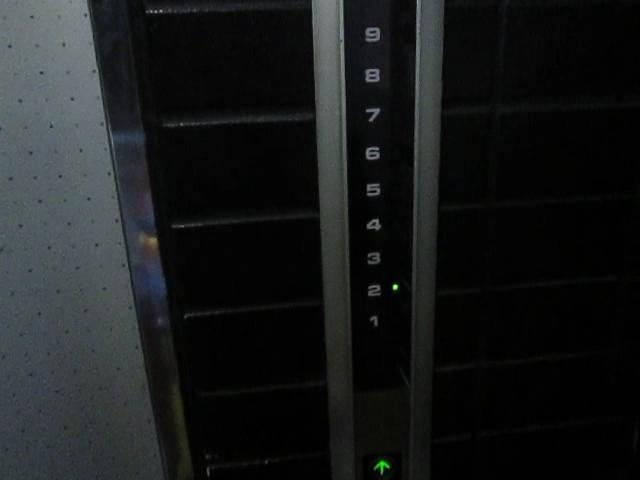1: (363, 310, 386, 332)
2: (363, 279, 386, 301)
3: (362, 248, 385, 270)
4: (362, 214, 385, 236)
5: (362, 179, 385, 201)
6: (359, 142, 386, 164)
7: (359, 104, 386, 126)
8: (358, 64, 385, 86)
9: (358, 23, 385, 45)
up: (358, 446, 402, 480)
